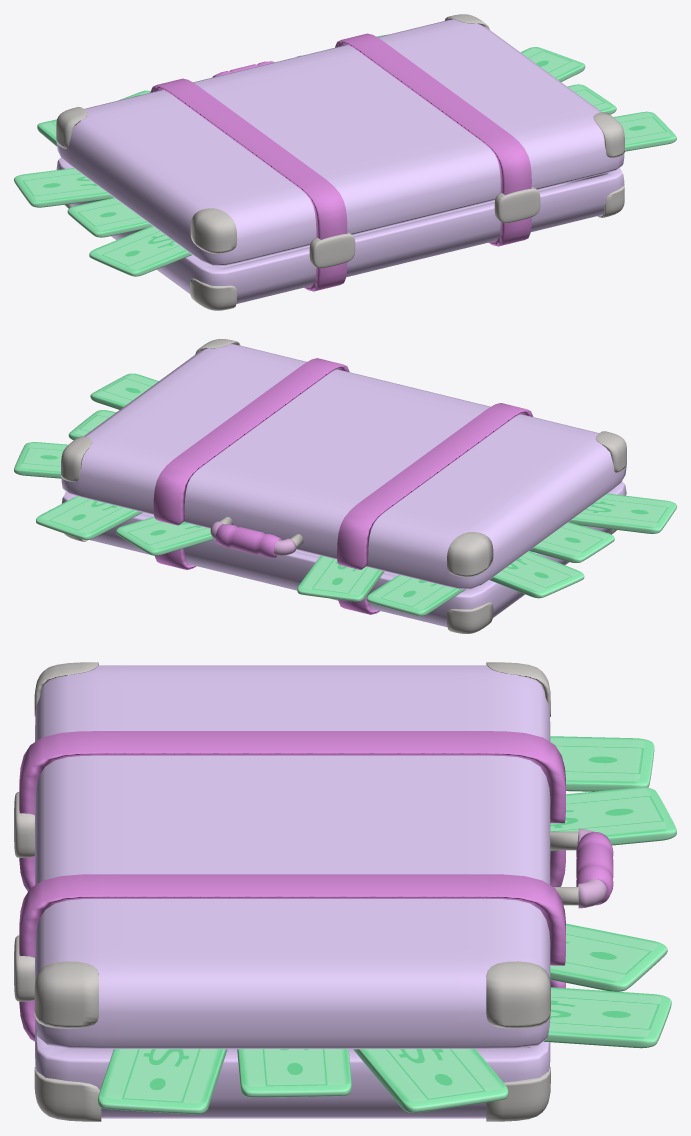
The model's file is AR_Suitcase_Money (1).fbx.
The picture shows the model from 3 angles, top to bottom: view 1: azimuth 30°, elevation 25°; view 2: azimuth 150°, elevation 25°; view 3: azimuth 270°, elevation 25°; orthographic projection. The views are drawn at different scales.
Parts seen in each view (by area): view 1: AR_Suitcase, AR_Moneys; view 2: AR_Suitcase, AR_Moneys; view 3: AR_Suitcase, AR_Moneys.
Boxes of the visible parts, <box> form: AR_Suitcase: <box>56,14,624,310</box>; AR_Moneys: <box>14,34,676,276</box>; AR_Suitcase: <box>61,339,626,633</box>; AR_Moneys: <box>14,373,676,616</box>; AR_Suitcase: <box>14,662,613,1121</box>; AR_Moneys: <box>98,736,676,1114</box>.
Bounding box in the file's own units: 152 × 25.35 × 96.3.
